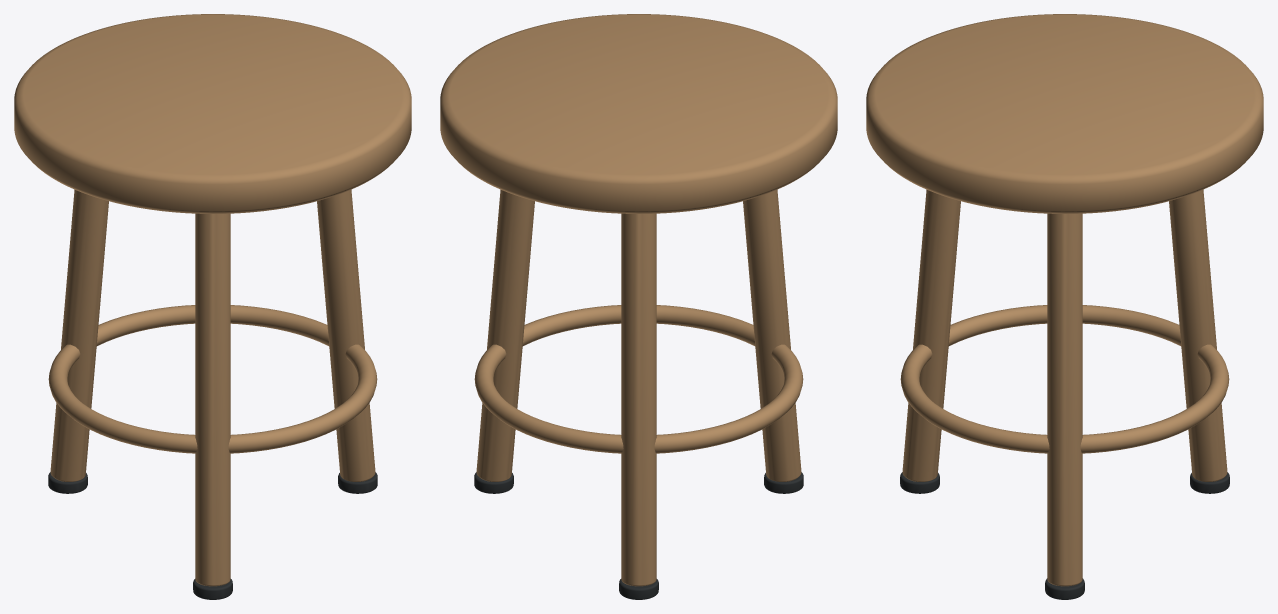
3 views of the same model, side by side, from view 1: azimuth 30°, elevation 25°; view 2: azimuth 150°, elevation 25°; view 3: azimuth 270°, elevation 25° (orthographic).
Parts seen in each view (by area): view 1: Circular_seat, Splayed_leg.002, Circular_footrest, Splayed_leg, Splayed_leg.001, Floor_pad.002, Floor_pad, Floor_pad.001; view 2: Circular_seat, Splayed_leg.001, Circular_footrest, Splayed_leg, Splayed_leg.002, Floor_pad.001, Floor_pad, Floor_pad.002; view 3: Circular_seat, Splayed_leg, Circular_footrest, Splayed_leg.001, Splayed_leg.002, Floor_pad, Floor_pad.001, Floor_pad.002.
Boxes of the visible parts, box(x1,y1,x2,y2) form: Circular_seat: box(14, 14, 411, 213); Splayed_leg.002: box(195, 213, 230, 586); Circular_footrest: box(48, 305, 377, 453); Splayed_leg: box(317, 189, 375, 481); Splayed_leg.001: box(50, 189, 108, 481); Floor_pad.002: box(193, 579, 232, 599); Floor_pad: box(338, 472, 377, 493); Floor_pad.001: box(48, 472, 87, 493); Circular_seat: box(440, 14, 837, 213); Splayed_leg.001: box(621, 213, 656, 586); Circular_footrest: box(474, 305, 803, 453); Splayed_leg: box(476, 189, 534, 481); Splayed_leg.002: box(743, 189, 801, 481); Floor_pad.001: box(619, 579, 658, 599); Floor_pad: box(474, 472, 513, 493); Floor_pad.002: box(764, 472, 803, 493); Circular_seat: box(866, 14, 1263, 213); Splayed_leg: box(1047, 213, 1082, 586); Circular_footrest: box(900, 305, 1229, 453); Splayed_leg.001: box(1169, 189, 1227, 481); Splayed_leg.002: box(902, 189, 960, 481); Floor_pad: box(1045, 578, 1084, 599); Floor_pad.001: box(1190, 472, 1229, 493); Floor_pad.002: box(900, 472, 939, 493).
Size of the model in its own units: 0.38 by 0.45 by 0.38.
